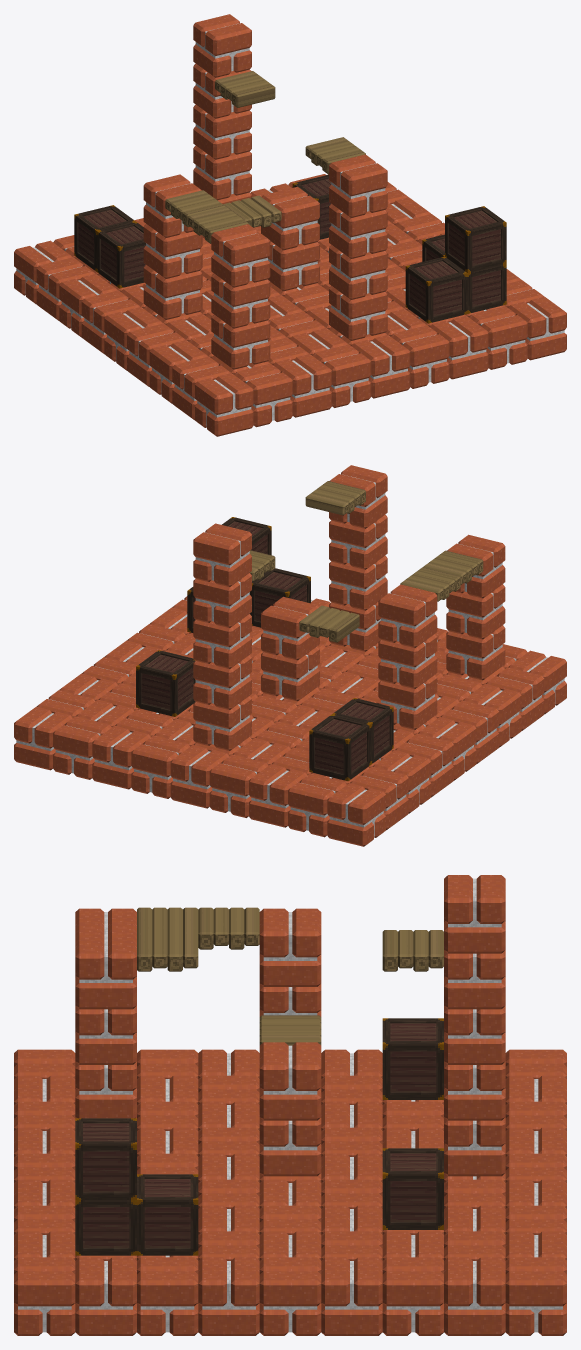
The model's file is Mockup.glb.
3 views of the same model, one above another, from view 1: azimuth 30°, elevation 25°; view 2: azimuth 150°, elevation 25°; view 3: azimuth 270°, elevation 25° (orthographic). The views are drawn at different scales.
Parts seen in each view (by area): view 1: Voxel.050, Voxel.051, Voxel.096, Voxel.100, Voxel.045, Voxel.107, Voxel.108, Voxel.053, Voxel.054, Voxel.094, Voxel.095, Voxel.097 (+43 smaller); view 2: Voxel.109, Voxel.001, Voxel.092, Voxel.081, Voxel.107, Voxel.053, Voxel.094, Voxel.055, Voxel.095, Voxel.102, Voxel.099, Voxel.052 (+52 smaller); view 3: Voxel.001, Voxel.048, Voxel.051, Voxel.108, Voxel.010, Voxel.053, Voxel.092, Voxel.100, Voxel.028, Voxel.046, Voxel.064, Voxel.082 (+66 smaller).
Boxes of the visible parts, x1,y1,x2,y2 form: Voxel.050: (405, 256, 467, 323); Voxel.051: (445, 206, 506, 272); Voxel.096: (211, 224, 270, 287); Voxel.100: (329, 154, 387, 217); Voxel.045: (195, 373, 253, 436); Voxel.107: (193, 14, 251, 77); Voxel.108: (97, 221, 145, 288); Voxel.053: (261, 186, 319, 250); Voxel.054: (143, 265, 202, 319); Voxel.094: (211, 314, 270, 369); Voxel.095: (211, 273, 270, 328); Voxel.097: (329, 285, 387, 340); Voxel.109: (309, 714, 370, 781); Voxel.001: (136, 650, 195, 716); Voxel.092: (378, 584, 437, 647); Voxel.081: (327, 783, 385, 846); Voxel.107: (193, 523, 251, 586); Voxel.053: (261, 596, 319, 660); Voxel.094: (446, 625, 505, 680); Voxel.055: (378, 634, 437, 688); Voxel.095: (446, 584, 505, 639); Voxel.102: (193, 696, 251, 750); Voxel.099: (329, 514, 387, 569); Voxel.052: (261, 646, 319, 701); Voxel.001: (382, 1148, 443, 1229); Voxel.048: (137, 1174, 198, 1255); Voxel.051: (75, 1118, 136, 1199); Voxel.108: (382, 1018, 443, 1099); Voxel.010: (259, 1257, 321, 1335); Voxel.053: (259, 1042, 321, 1120); Voxel.092: (259, 908, 321, 986); Voxel.100: (75, 930, 136, 1009); Voxel.028: (137, 1257, 198, 1335); Voxel.046: (14, 1257, 75, 1335); Voxel.064: (382, 1257, 443, 1335); Voxel.082: (505, 1257, 566, 1335).
Size of the model in its own units: 9 by 6 by 9.
Materials: 4 (4 with a texture image).
